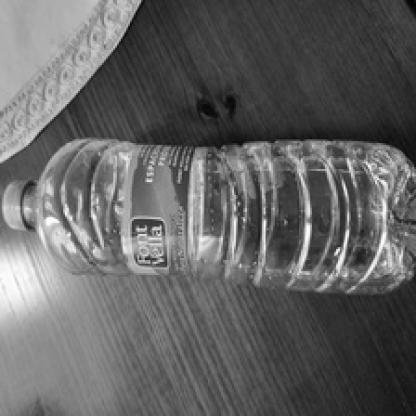plastic_bottles: (0, 136, 416, 290)
